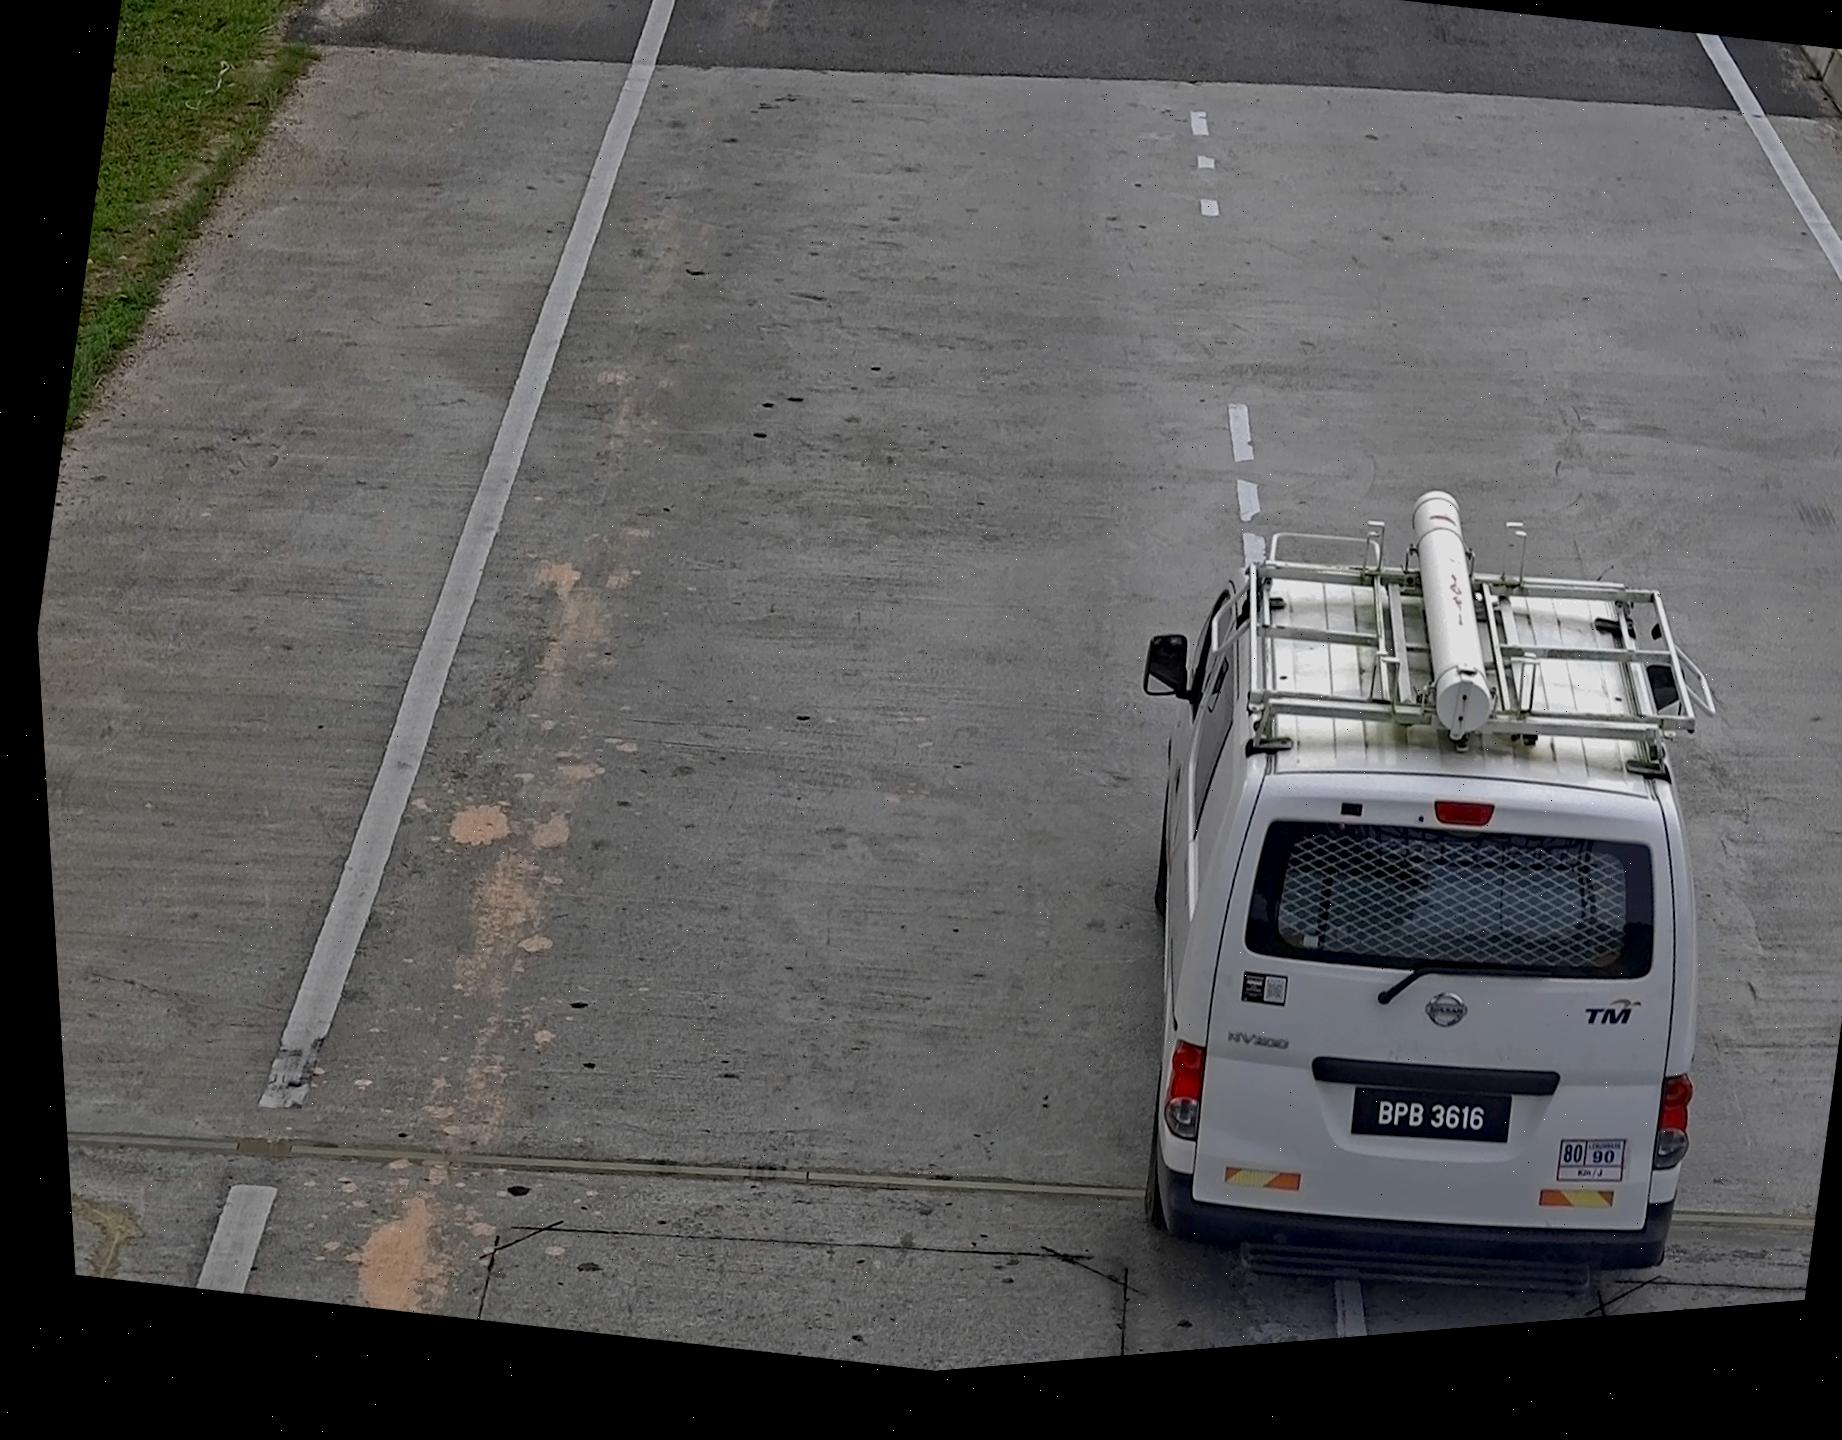non broken: (1348, 1068, 1514, 1161)
